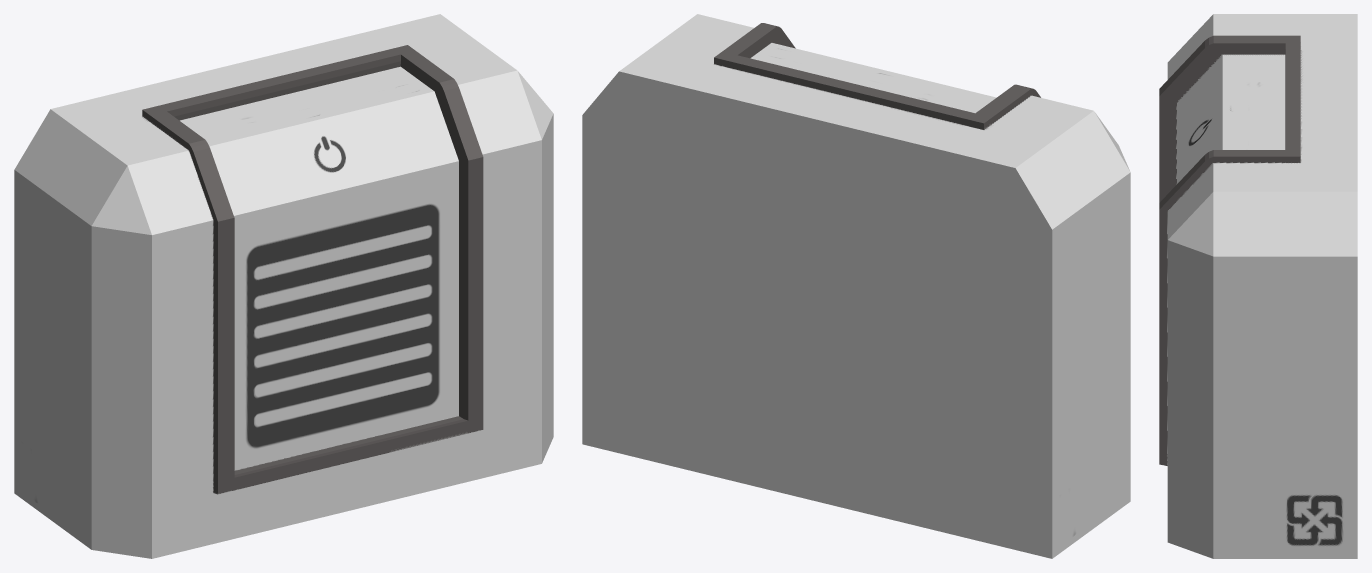
The model's file is Servidor.fbx.
The picture shows the model from 3 angles, left to right: view 1: azimuth 30°, elevation 25°; view 2: azimuth 150°, elevation 25°; view 3: azimuth 270°, elevation 25°; orthographic projection. The views are drawn at different scales.
Visible parts, largest first — view 1: Servidor; view 2: Servidor; view 3: Servidor.
Part boxes in pixels (bbox=[...]): Servidor: bbox=[14, 14, 553, 558]; Servidor: bbox=[582, 14, 1130, 558]; Servidor: bbox=[1159, 14, 1357, 558].
Bounding box in the file's own units: 258 × 204 × 102.
